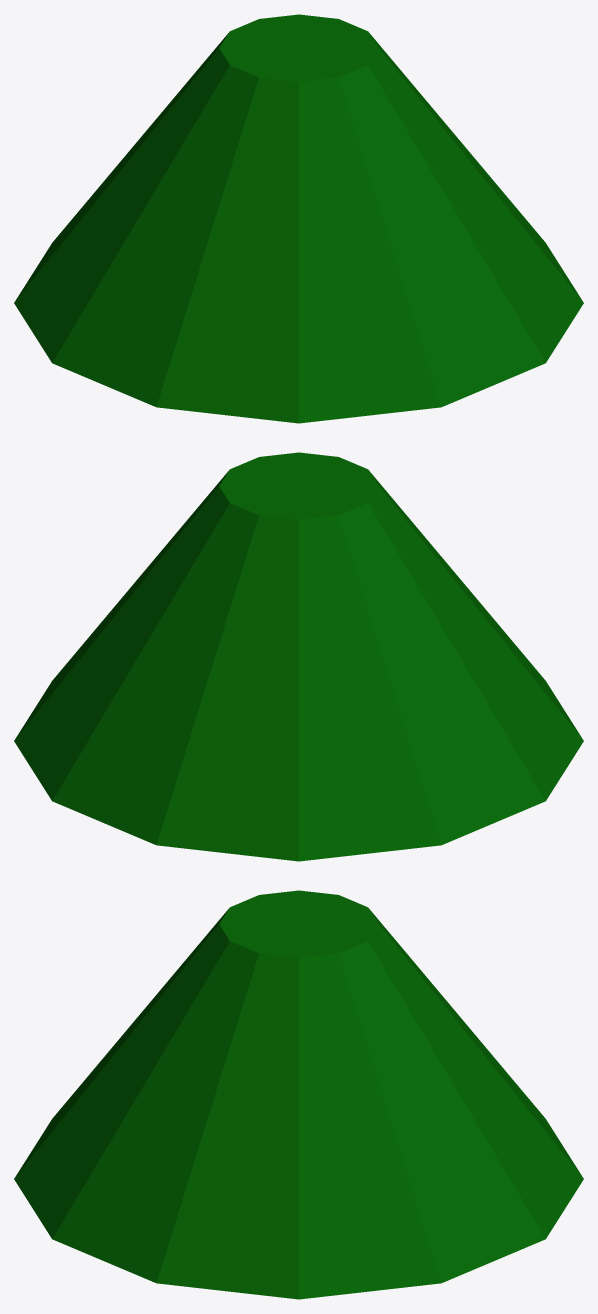
Rendered from Prop_Industrial_Rocket_Head_04.FBX.
The picture shows the model from 3 angles, top to bottom: view 1: azimuth 30°, elevation 25°; view 2: azimuth 150°, elevation 25°; view 3: azimuth 270°, elevation 25°; orthographic projection.
Visible parts, largest first — view 1: Prop_Industrial_Rocket_Head_04; view 2: Prop_Industrial_Rocket_Head_04; view 3: Prop_Industrial_Rocket_Head_04.
Part boxes in pixels (x1,y1,x2,y2): Prop_Industrial_Rocket_Head_04: [14, 14, 583, 423]; Prop_Industrial_Rocket_Head_04: [14, 452, 583, 861]; Prop_Industrial_Rocket_Head_04: [14, 890, 583, 1299].
Size of the model in its own units: 1538 by 759 by 1538.
